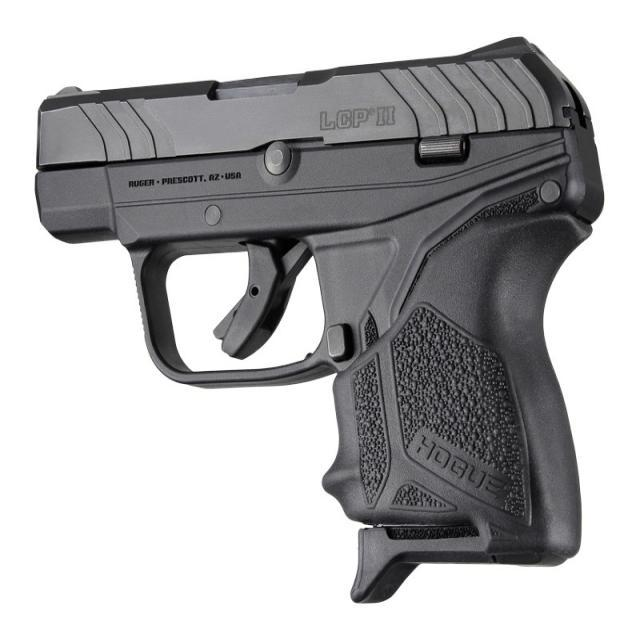Pistol: (20, 14, 619, 630)
